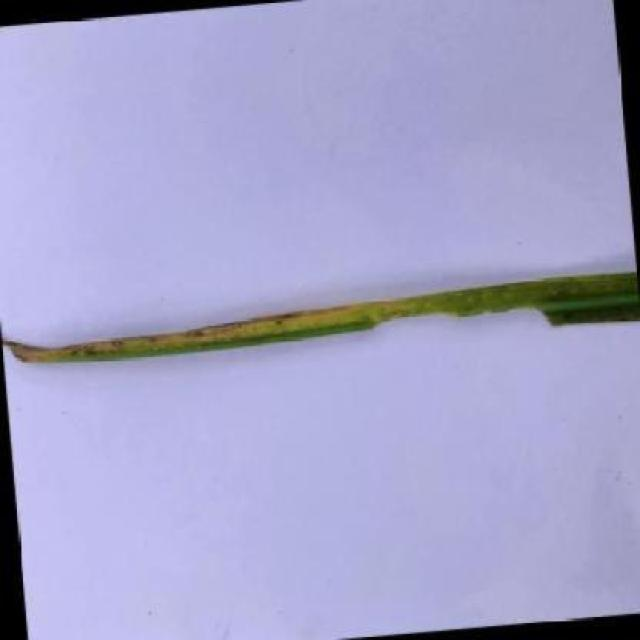Rice False Smut: (0, 267, 640, 378)
